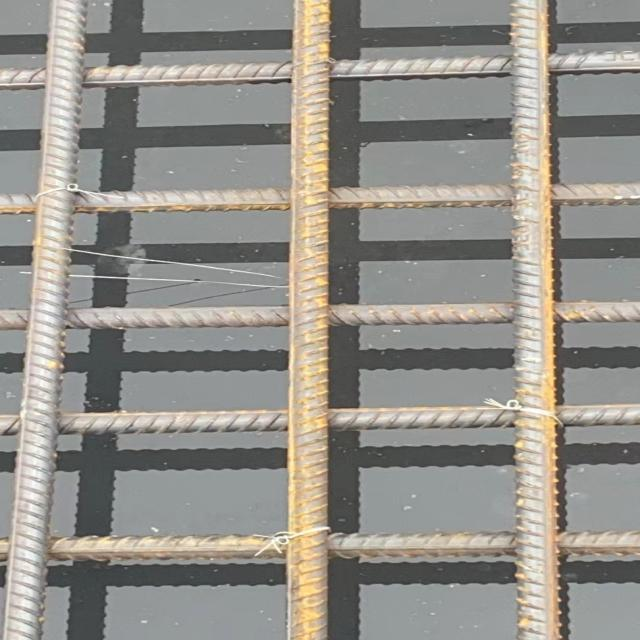ribbed bar: (0, 0, 89, 639), (510, 0, 564, 639), (284, 0, 334, 639), (0, 49, 639, 93), (0, 183, 639, 216), (0, 530, 639, 563), (0, 403, 639, 434), (0, 300, 639, 329)
